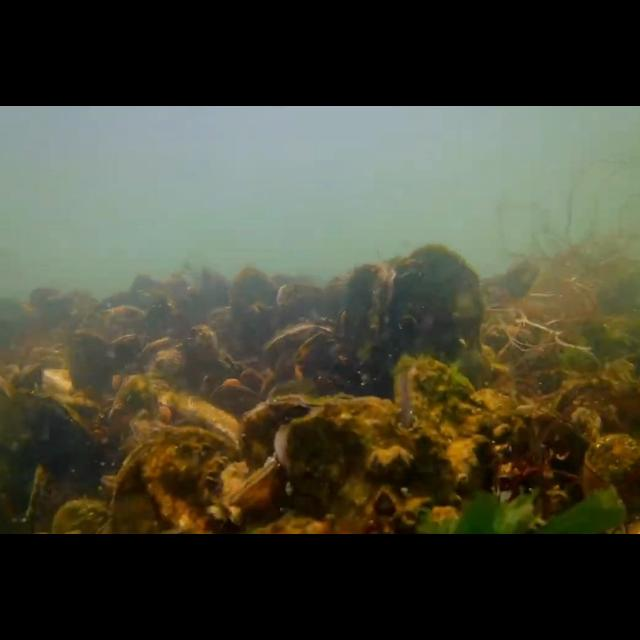Oyster-Closed: (238, 394, 354, 534), (109, 429, 243, 535), (390, 244, 484, 394), (0, 389, 96, 535), (491, 406, 592, 534), (338, 262, 396, 380), (581, 431, 640, 534), (106, 374, 160, 464), (65, 329, 113, 407), (178, 392, 240, 440), (180, 324, 220, 396)
Oyster-Open: (274, 396, 450, 534), (393, 353, 503, 534), (260, 324, 332, 386), (227, 457, 280, 513), (133, 338, 183, 382)
